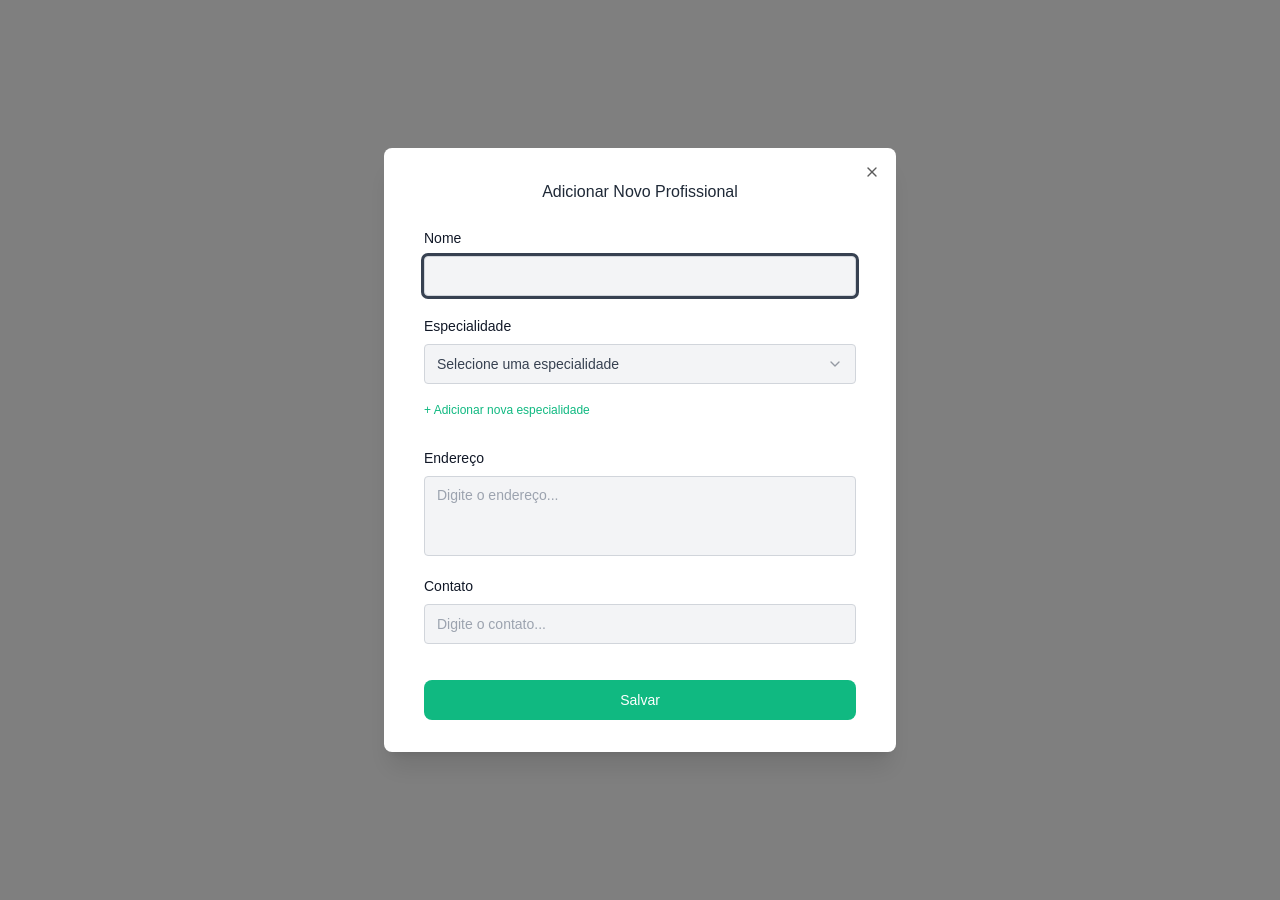
Test: AddProfessionalModal › allows selecting specialty
Click the dropdown.
click(528, 364)  # box top-left (424, 344), bottom-right (856, 384)
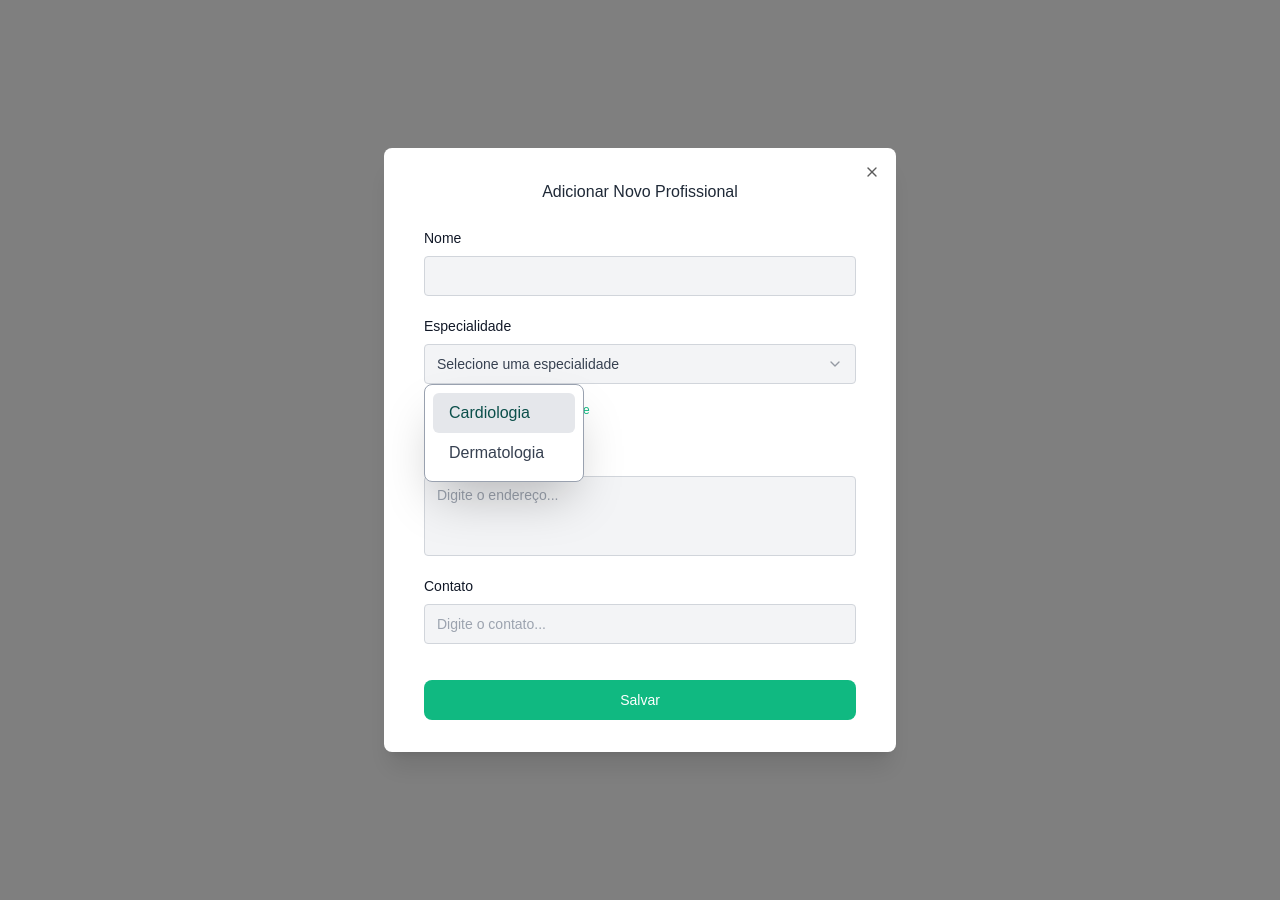
Check: the text "Cardiologia" is shown, box top-left (449, 401), bottom-right (530, 425)
Click the option "Cardiologia".
click(504, 413)  # box top-left (433, 393), bottom-right (575, 433)
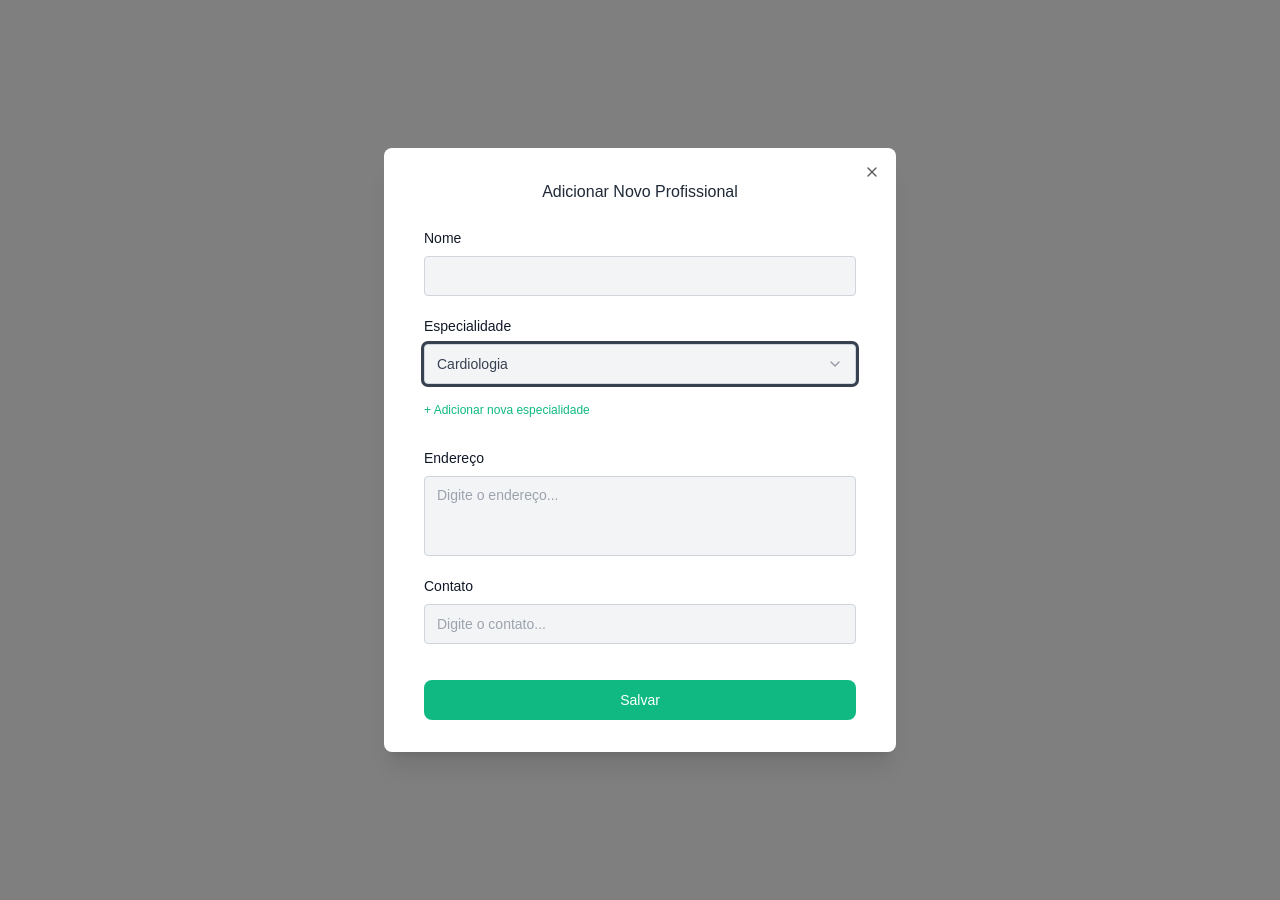
Check: the dropdown reads "Cardiologia", box top-left (424, 344), bottom-right (856, 384)
